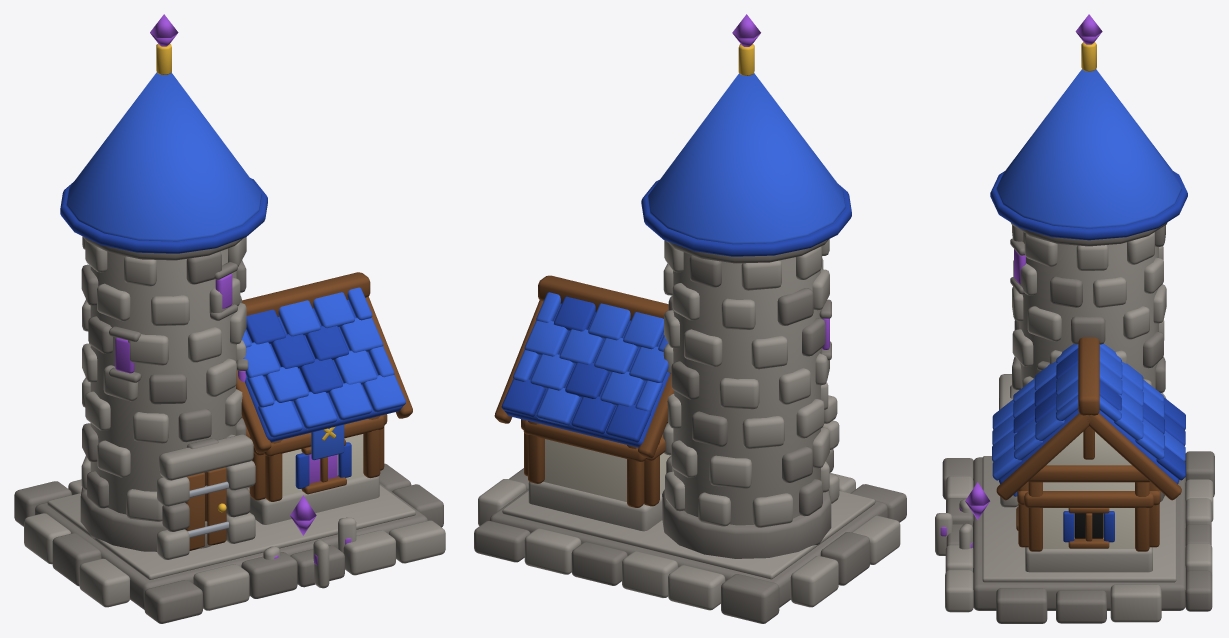
Rendered from ArcaneSanctum.glb.
3 renders of one model, left to right at view 1: azimuth 30°, elevation 25°; view 2: azimuth 150°, elevation 25°; view 3: azimuth 270°, elevation 25°, orthographic. The views are drawn at different scales.
Parts seen in each view (by area): view 1: ArcaneSanctum; view 2: ArcaneSanctum; view 3: ArcaneSanctum.
Boxes of the visible parts, x1,y1,x2,y2 form: ArcaneSanctum: (14,14,445,623); ArcaneSanctum: (474,14,906,623); ArcaneSanctum: (935,14,1214,623).
Bounding box in the file's own units: 3.81 × 5.75 × 2.89.
